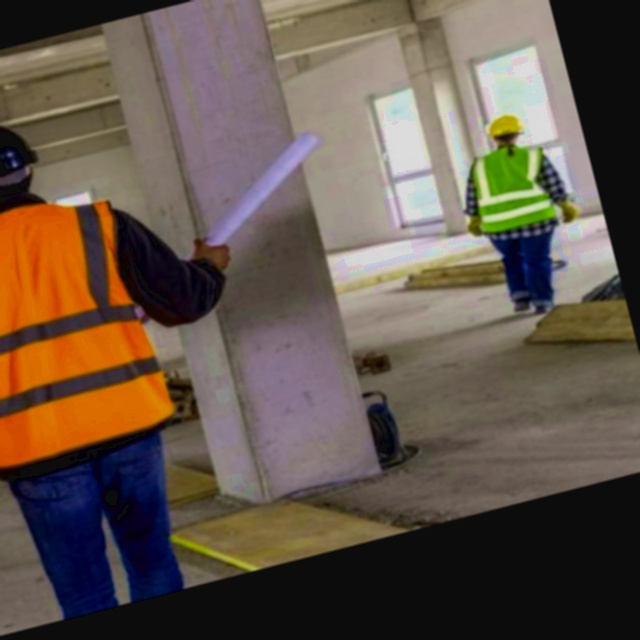Con_Chaleco: (0, 190, 175, 481), (461, 140, 563, 248)
